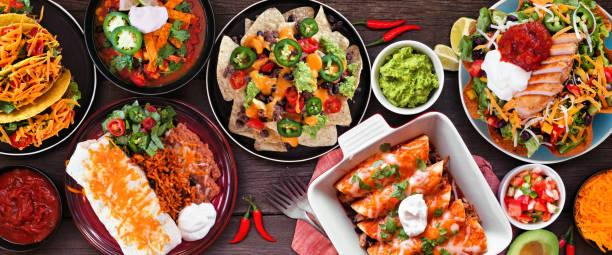Braised Crucian Carp: (308, 109, 509, 252), (207, 0, 369, 165), (63, 96, 232, 253), (457, 0, 606, 165), (0, 0, 96, 156), (82, 0, 211, 94)
